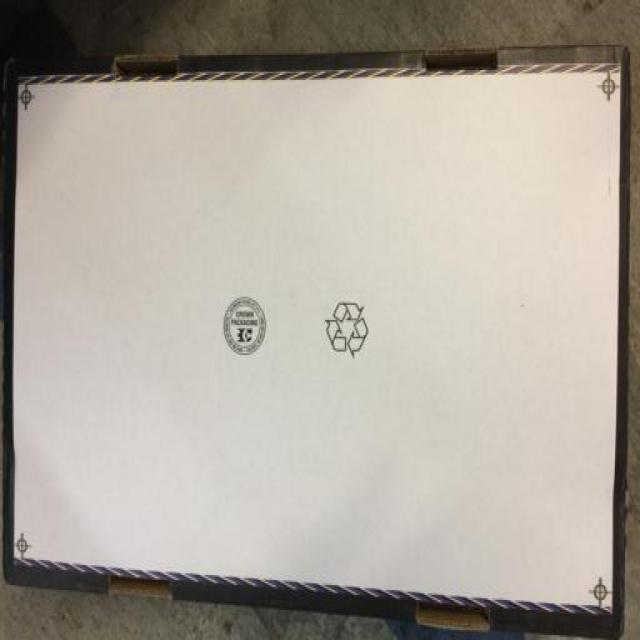cardboard: (4, 69, 627, 628)
